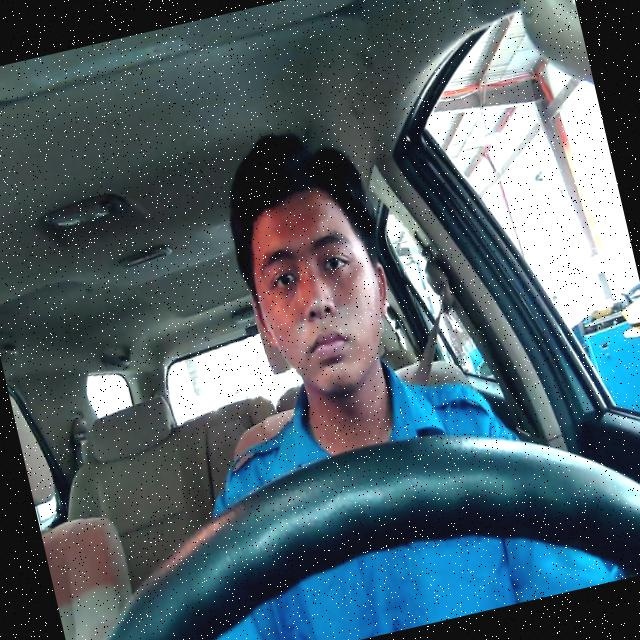focused: (232, 177, 409, 410)
